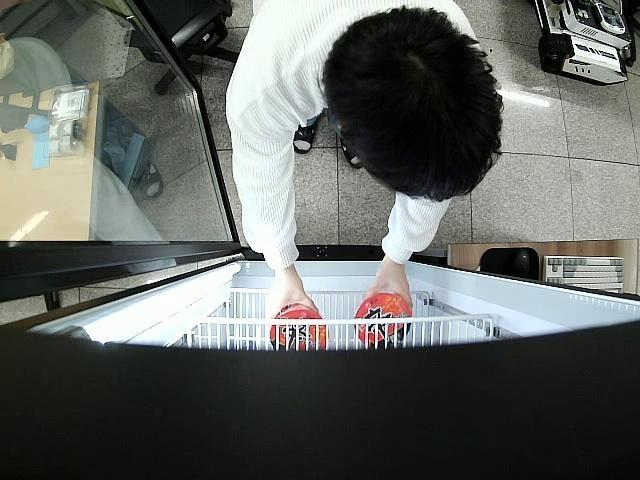01_ShinRamen_L: (358, 292, 410, 346), (271, 301, 326, 352)
